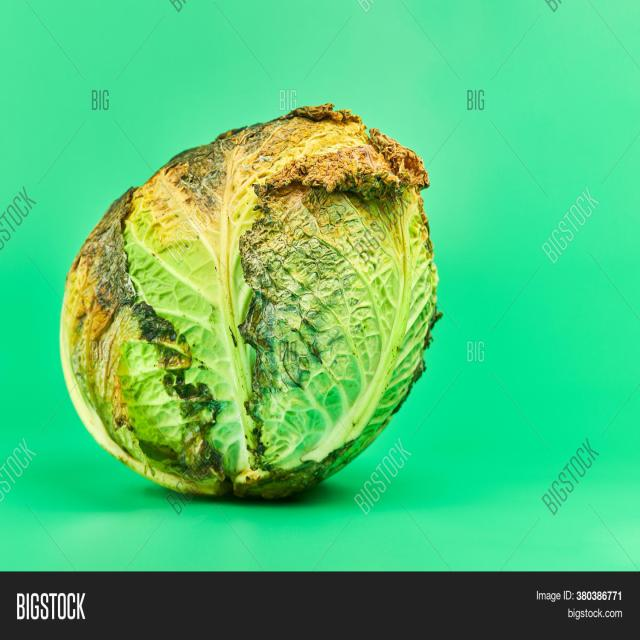rotten cabbage: (33, 99, 457, 510)
